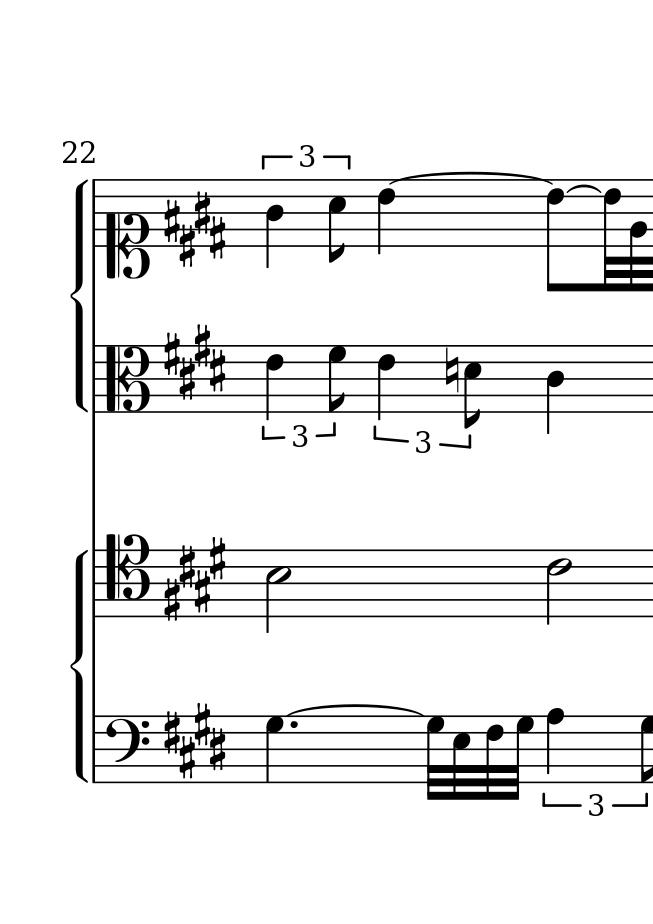2: (78, 139, 96, 165), (61, 140, 78, 165)
2_5: (264, 549, 290, 634)
2_6: (546, 549, 571, 624)
32_2: (627, 178, 648, 295)
32_5: (450, 714, 472, 802)
32_6: (602, 178, 625, 293), (485, 714, 505, 802)
32_7: (512, 714, 536, 800), (425, 713, 446, 802)
4_4: (264, 180, 285, 270), (545, 345, 566, 435)
4_6: (264, 344, 285, 421), (376, 178, 396, 256), (376, 343, 396, 421)
4_7: (264, 715, 285, 782)
4_8: (545, 706, 565, 784)
8_5: (327, 178, 347, 265), (462, 344, 482, 431)
8_6: (544, 177, 565, 290)
8_7: (327, 345, 347, 413)
Brace: (69, 546, 89, 788), (70, 179, 89, 415)
Cclef: (105, 342, 148, 415)
E_S: (157, 536, 232, 623), (161, 189, 228, 269), (162, 700, 229, 780), (163, 323, 227, 401)
Fclef: (103, 713, 148, 785)
Natural: (443, 344, 460, 395)
Single_barline: (88, 548, 102, 620), (87, 181, 102, 247), (88, 716, 102, 783), (88, 344, 101, 414)
Slur: (390, 169, 553, 185), (282, 702, 423, 718), (566, 183, 602, 195)
Soprano_Cclef: (105, 177, 150, 279)
Tensor_Cclef: (103, 533, 151, 617)
dot: (288, 718, 299, 730)
